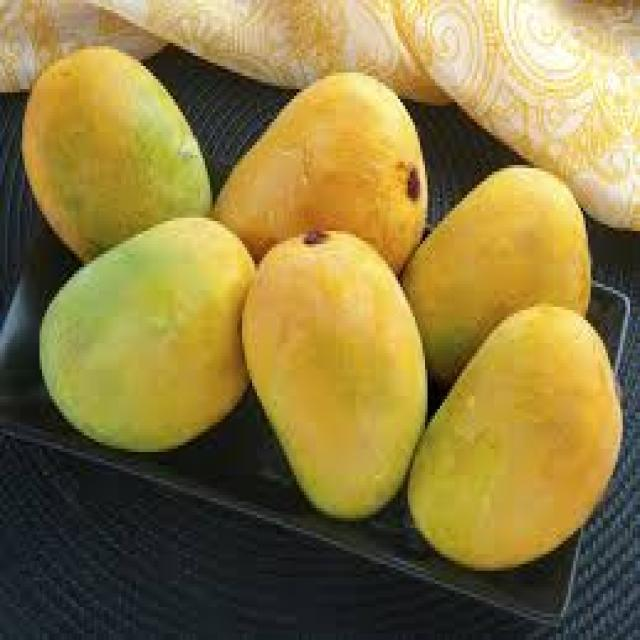Mango: (405, 300, 623, 571), (240, 227, 428, 518), (37, 214, 255, 452), (212, 69, 428, 274), (400, 162, 591, 386), (19, 43, 212, 264)
